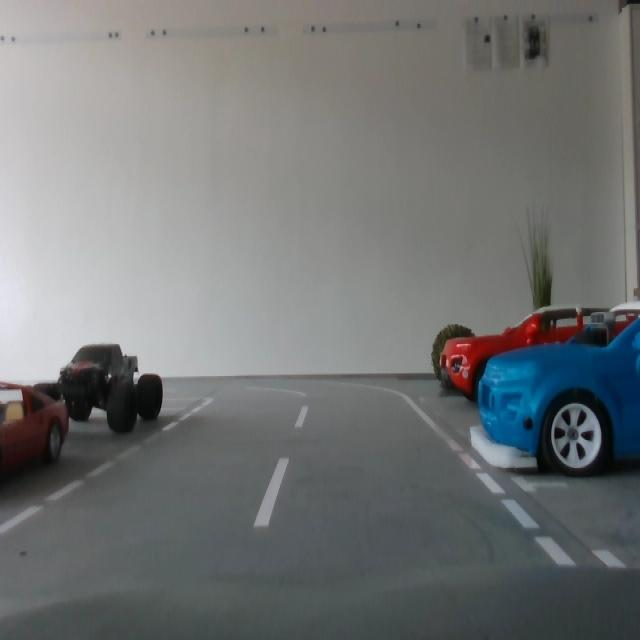car: (478, 314, 640, 477), (439, 305, 640, 402), (55, 339, 167, 437), (1, 381, 69, 480)
potted plant: (519, 207, 555, 360), (432, 322, 480, 386)
